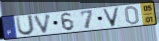0: (124, 5, 141, 26)
6: (60, 12, 77, 32)
7: (80, 9, 95, 30)
U: (15, 14, 36, 37)
V: (101, 7, 121, 28), (33, 13, 53, 34)
